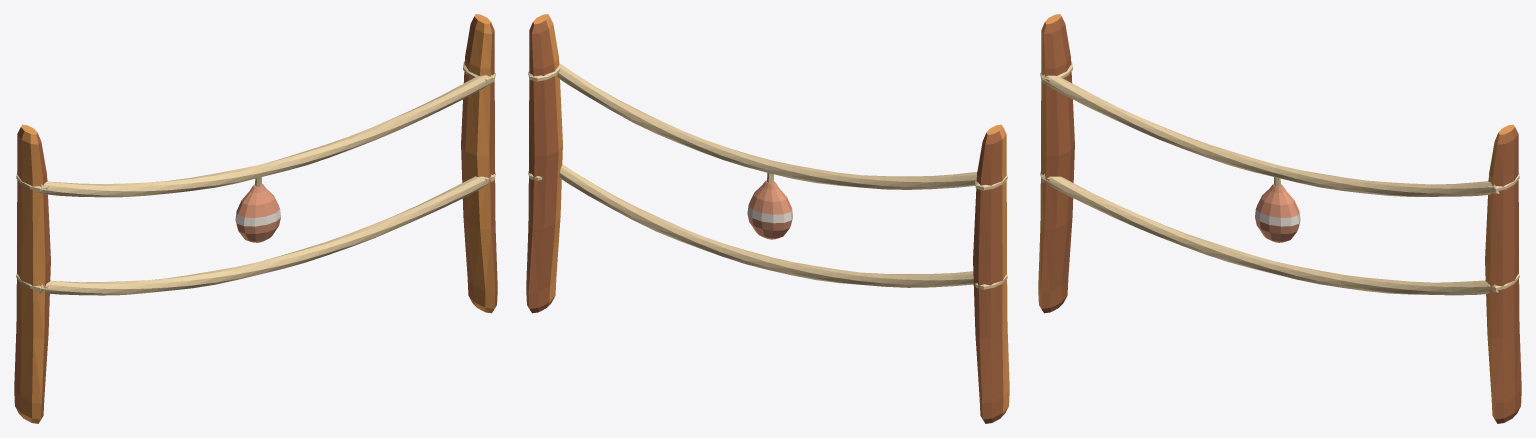
The model's file is ropeFence.glb.
3 renders of one model, left to right at view 1: azimuth 30°, elevation 25°; view 2: azimuth 150°, elevation 25°; view 3: azimuth 330°, elevation 25°, orthographic.
Visible parts, largest first — view 1: ropeFence; view 2: ropeFence; view 3: ropeFence.
Boxes of the visible parts, <box> form: ropeFence: <box>14,14,497,423</box>; ropeFence: <box>526,14,1009,423</box>; ropeFence: <box>1038,14,1521,423</box>.
Size of the model in its own units: 2.16 by 1.26 by 0.2.
Materials: 1 (1 with a texture image).
